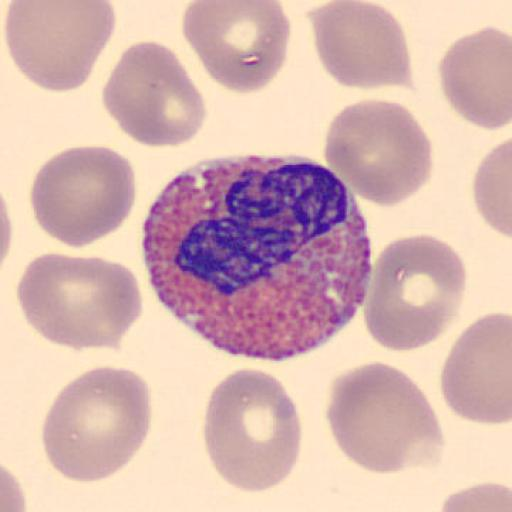RBC: (40, 364, 154, 485), (324, 360, 445, 474), (201, 364, 304, 495), (16, 251, 144, 353), (363, 232, 468, 353), (322, 98, 435, 209), (100, 40, 207, 149), (28, 144, 138, 250), (2, 0, 116, 93), (182, 0, 292, 95), (310, 0, 414, 92), (439, 310, 512, 426), (438, 24, 512, 131), (472, 135, 512, 242), (438, 479, 512, 512), (0, 462, 27, 512), (0, 186, 14, 272)
WBC: (140, 156, 372, 360)
